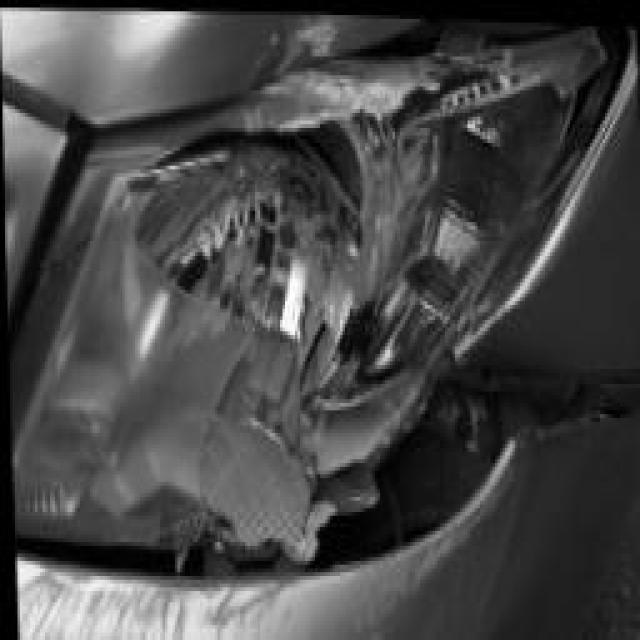Bonnet: (155, 4, 376, 83)
Light: (72, 87, 581, 518)
